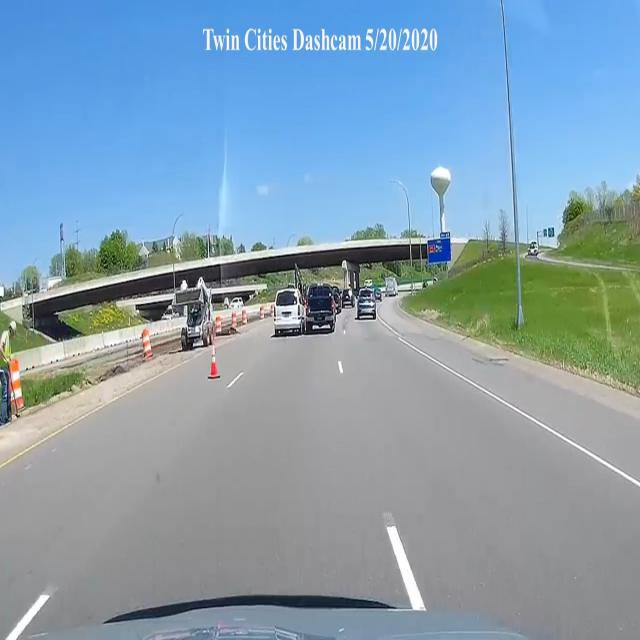Traffic Cone: (206, 344, 220, 376)
